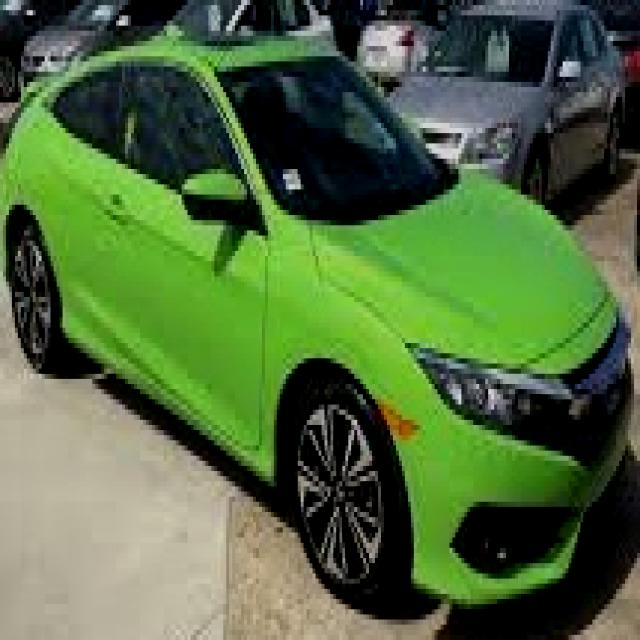green: (0, 33, 635, 619)
